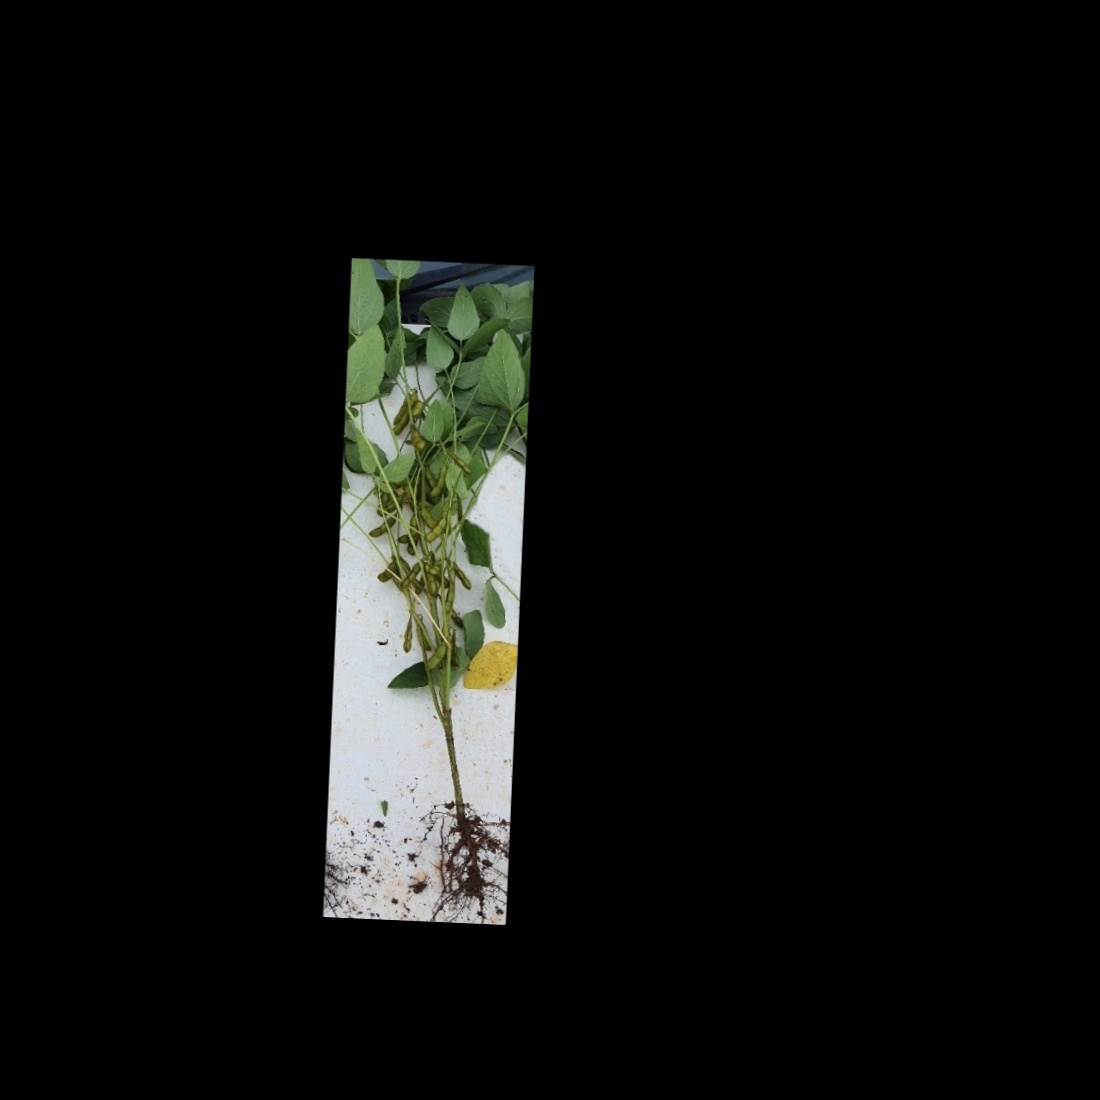pod: (366, 512, 398, 541), (449, 562, 477, 594), (427, 464, 448, 500), (445, 451, 475, 475), (422, 516, 447, 544), (396, 617, 415, 654), (400, 560, 420, 589), (410, 426, 428, 453), (391, 413, 410, 438), (448, 610, 465, 631), (409, 397, 425, 418)
soy: (333, 276, 524, 898)
